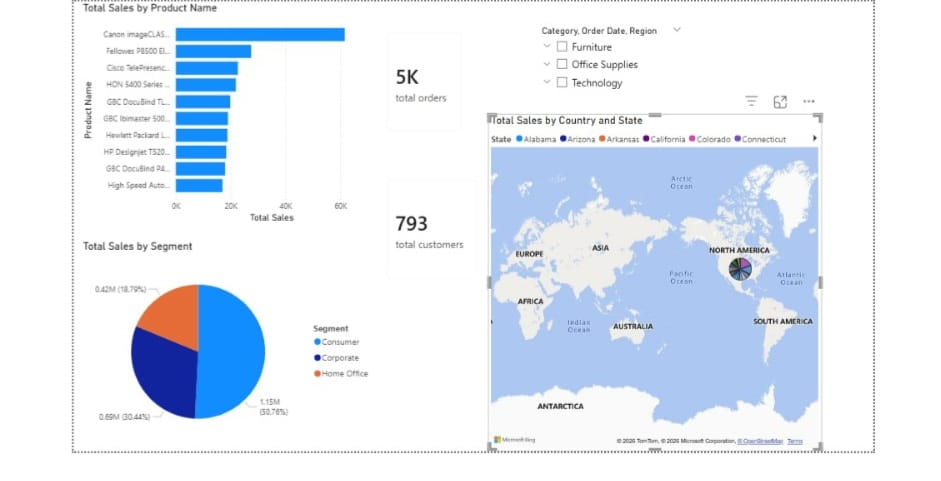

Layout of this report page (visuals, bound fields, positions):
{"tool":"powerbi","page":{"name":"Page 4","canvas":[1280,720],"ordinal":3},"visuals":[{"type":"barChart","fields":{"Category":["train.Product Name"],"Y":["train.Total Sales"]},"box":[9.6,0,476.2,359.5],"z":0},{"type":"pieChart","fields":{"Category":["train.Segment"],"Y":["train.Total Sales"]},"box":[9.6,381.5,476.2,338.9],"z":1000},{"type":"cardVisual","fields":{"Data":["train.total orders"]},"box":[485.8,32.9,153.7,192.1],"z":2000},{"type":"cardVisual","fields":{"Data":["train.total customers"]},"box":[485.8,269,178.4,192.1],"z":3000},{"type":"slicer","fields":{"Values":["train.Category","train.Order Date","train.Region"]},"box":[736.9,32.9,248.4,171.5],"z":4000},{"type":"map","fields":{"Category":["train.Country"],"Size":["train.Total Sales"],"Series":["train.State"]},"box":[664.2,179.8,533.8,540.7],"z":5000}]}

Visuals, with their boxes on the page's 1280x720 design canvas (x1, y1, x2, y2). These are canvas units, not pixel positions in the 941x481 screenshot, which may show the page scaled, cropped or inside an application window:
barChart - train.Product Name x train.Total Sales: box=[10, 0, 486, 360]
pieChart - train.Segment x train.Total Sales: box=[10, 382, 486, 720]
cardVisual - train.total orders: box=[486, 33, 640, 225]
cardVisual - train.total customers: box=[486, 269, 664, 461]
slicer - train.Category x train.Order Date: box=[737, 33, 985, 204]
map - train.Country x train.Total Sales: box=[664, 180, 1198, 720]
